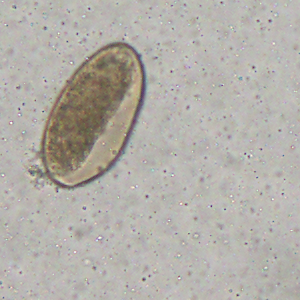Fasciola_hepatica_egg: (40, 40, 145, 189)
